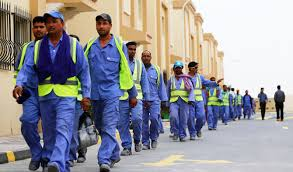vest: (83, 39, 125, 90), (40, 44, 77, 101), (170, 75, 189, 102), (133, 59, 142, 98), (192, 76, 203, 100), (208, 88, 219, 106), (222, 94, 230, 106)
